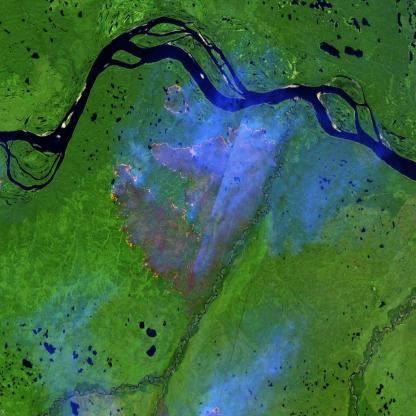fire: (106, 78, 278, 288)
